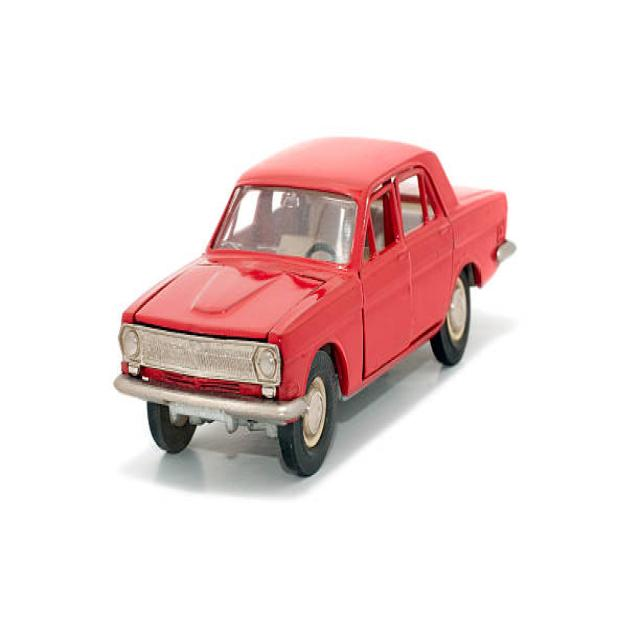Car: (113, 134, 515, 476)
